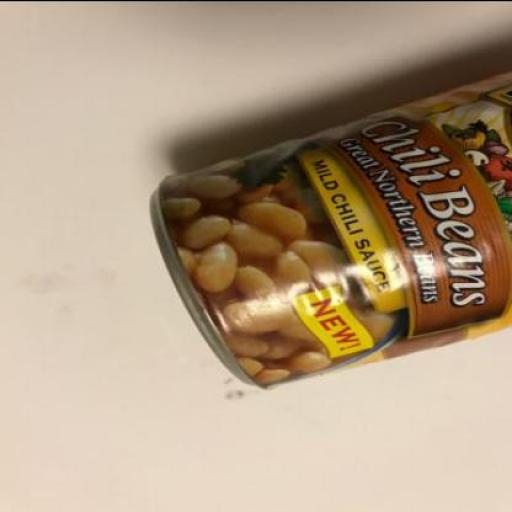metal: (149, 70, 511, 388)
